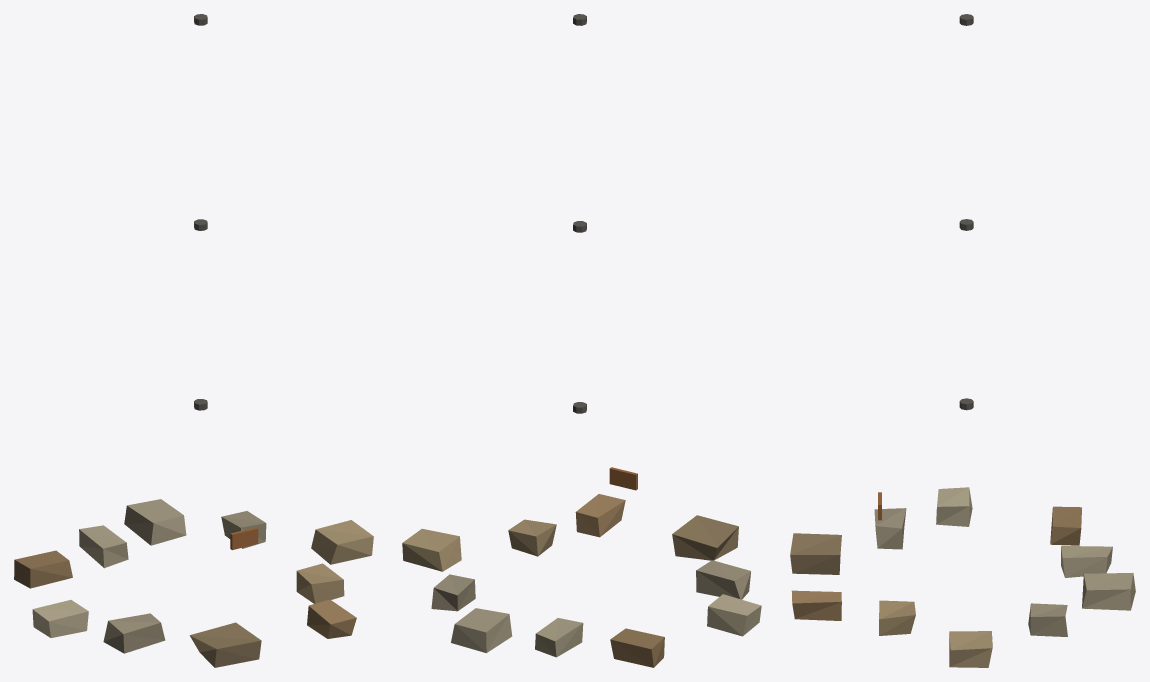
The model's file is dam_survey_gate_blue_detail1.glb.
3 renders of one model, left to right at view 1: azimuth 30°, elevation 25°; view 2: azimuth 150°, elevation 25°; view 3: azimuth 270°, elevation 25°, orthographic.
Parts seen in each view (by area): view 1: dam_survey_gate_blue_detail1; view 2: dam_survey_gate_blue_detail1; view 3: dam_survey_gate_blue_detail1.
Part boxes in pixels (box(x1,y1,x2,y2)): dam_survey_gate_blue_detail1: box(14, 14, 373, 667); dam_survey_gate_blue_detail1: box(402, 14, 761, 667); dam_survey_gate_blue_detail1: box(790, 14, 1135, 667).
Size of the model in its own units: 4.06 by 6.71 by 3.67.
